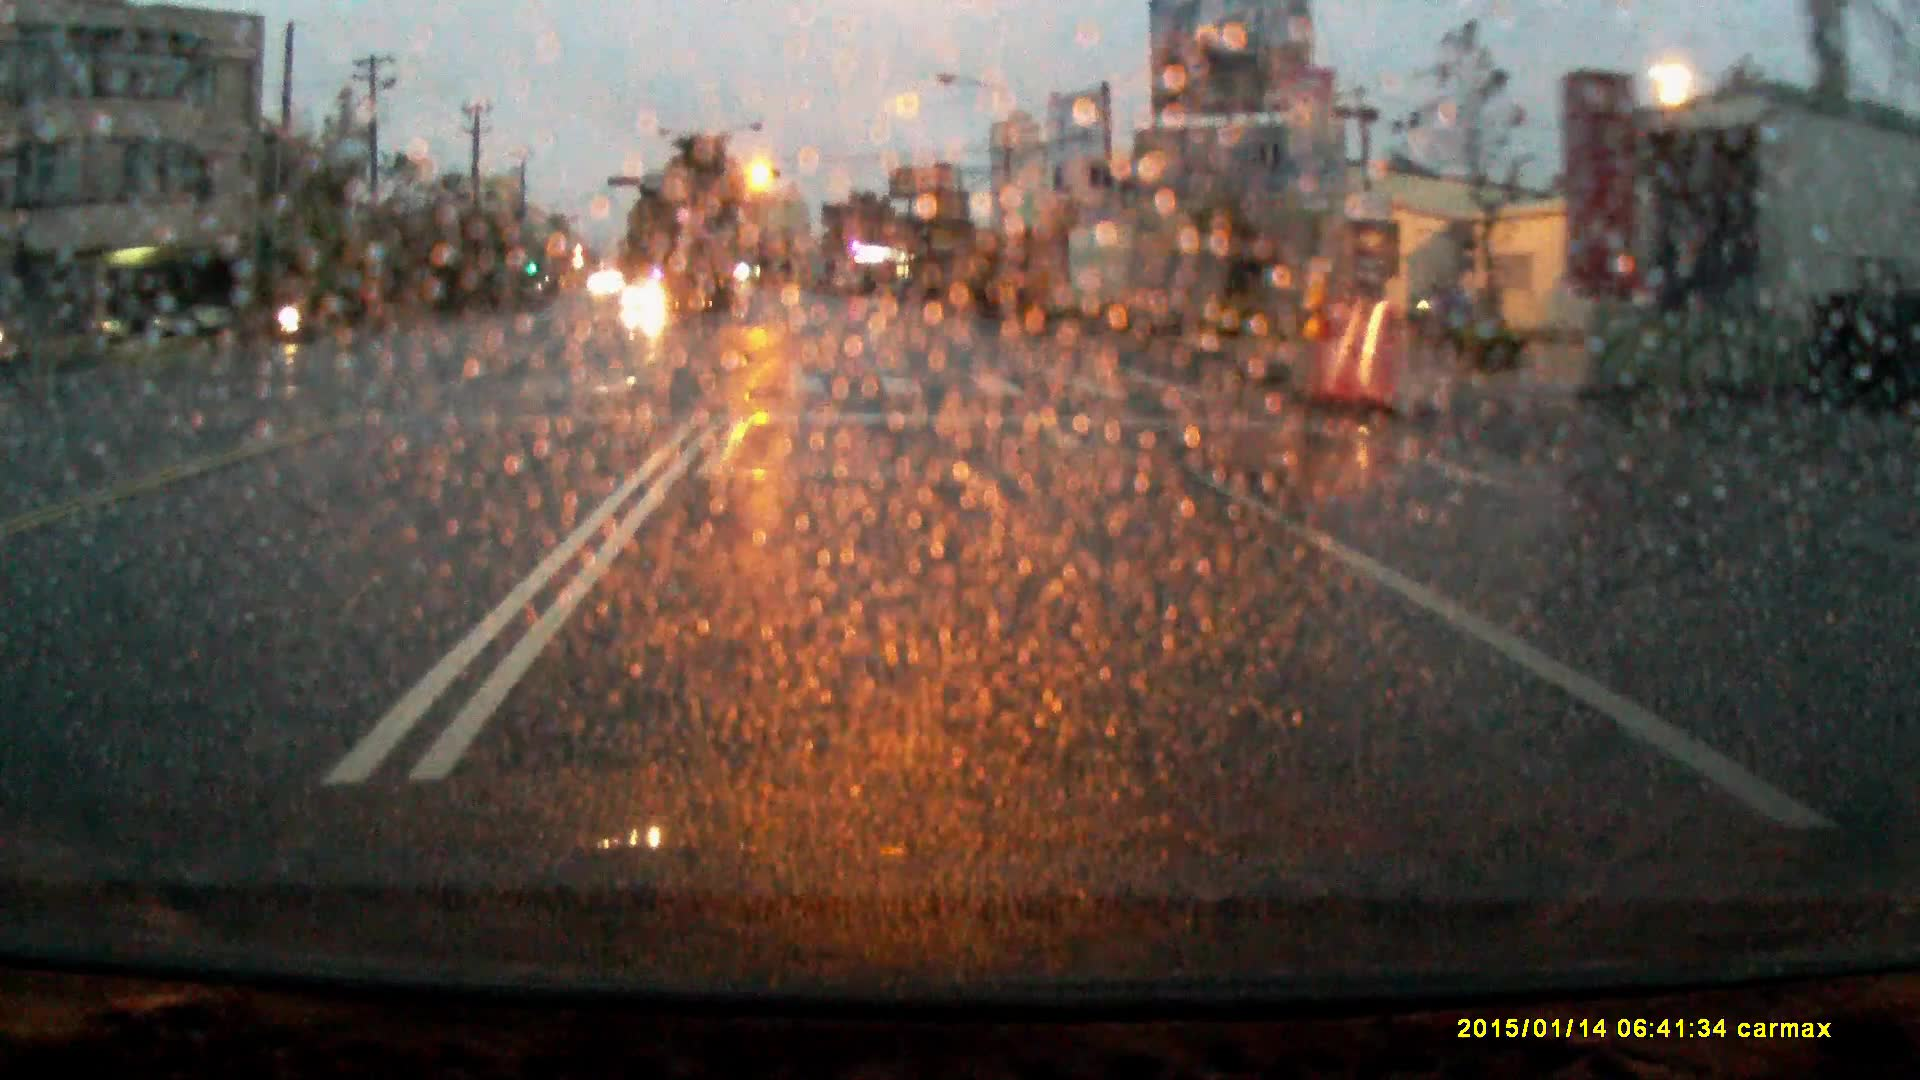rider: (1406, 270, 1475, 339), (274, 275, 310, 355)
vehicle: (623, 282, 667, 312)
